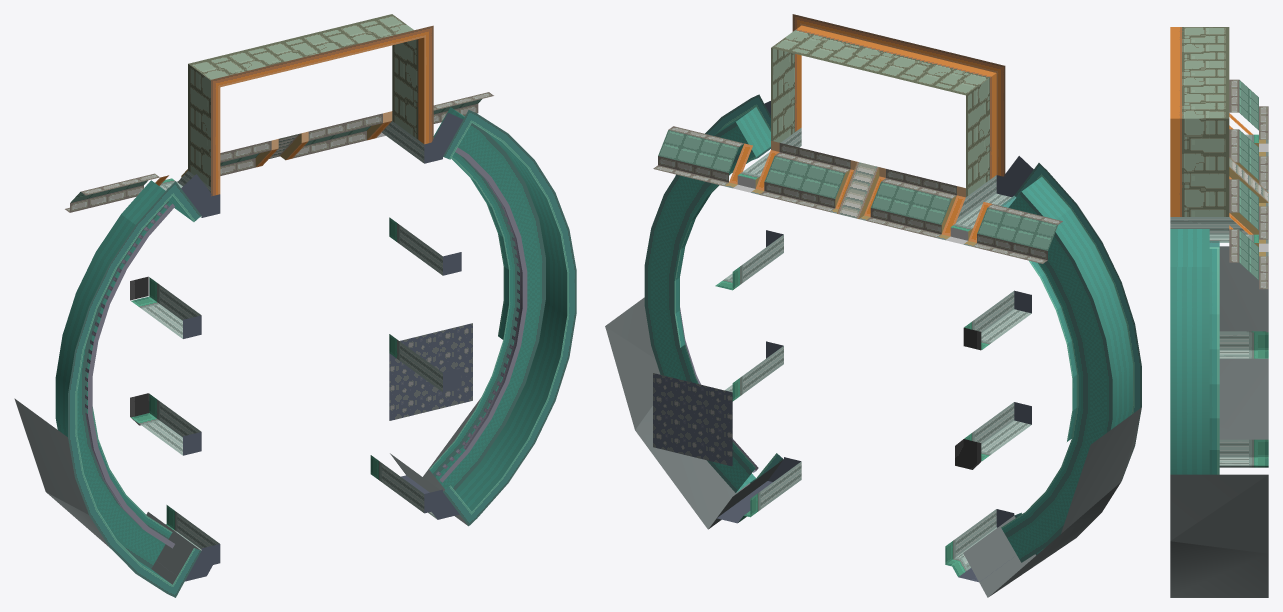
File: ROCKGYM7.obj
The picture shows the model from 3 angles, left to right: view 1: azimuth 30°, elevation 25°; view 2: azimuth 150°, elevation 25°; view 3: azimuth 270°, elevation 25°; orthographic projection. The views are drawn at different scales.
Visible parts, largest first — view 1: ROCKGYM; view 2: ROCKGYM; view 3: ROCKGYM.
Part boxes in pixels (left/top/right/bottom): ROCKGYM: left=14, top=14, right=576, bottom=597; ROCKGYM: left=605, top=14, right=1141, bottom=597; ROCKGYM: left=1170, top=27, right=1268, bottom=597.
Size of the model in its own units: 438 by 420 by 80.
